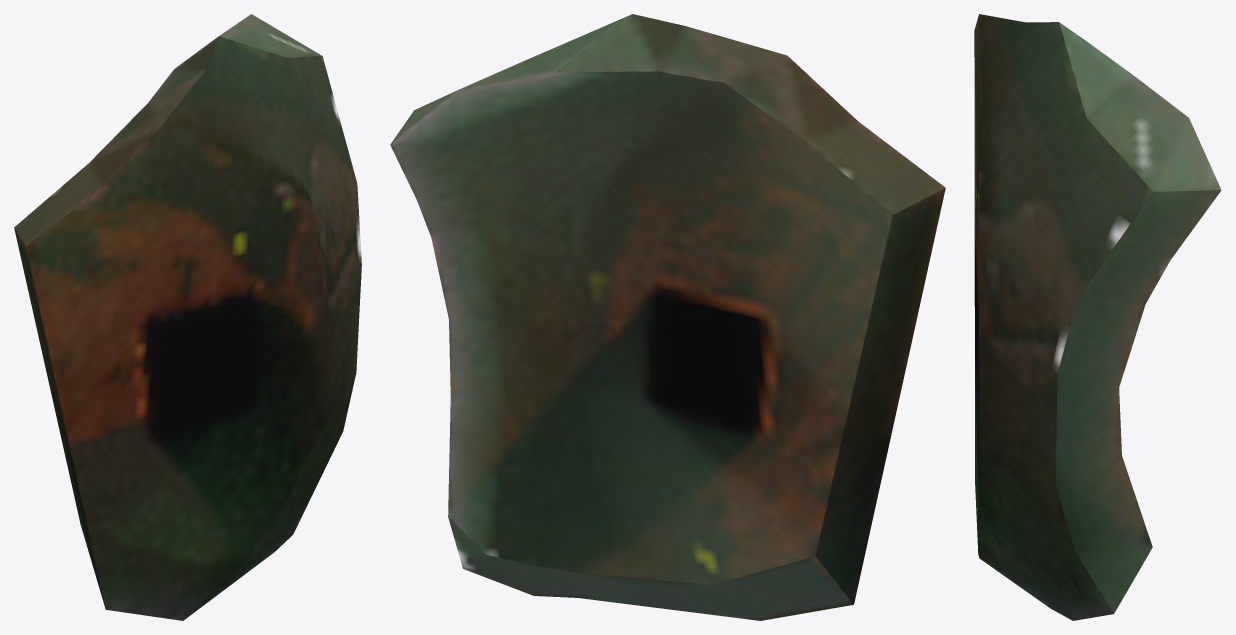
File: Ceramic005.gltf
3 renders of one model, left to right at view 1: azimuth 30°, elevation 25°; view 2: azimuth 150°, elevation 25°; view 3: azimuth 270°, elevation 25°, orthographic. The views are drawn at different scales.
Parts seen in each view (by area): view 1: Ceramic005_001, Ceramic005_003, Ceramic005_002, Ceramic005_005, Ceramic005_004, Ceramic005; view 2: Ceramic005_003, Ceramic005_002, Ceramic005_001, Ceramic005_005, Ceramic005_004, Ceramic005; view 3: Ceramic005_002, Ceramic005, Ceramic005_003, Ceramic005_004, Ceramic005_001.
Part boxes in pixels (x1=…): Ceramic005_001: x1=14, y1=112, x2=208, y2=371; Ceramic005_003: x1=92, y1=342, x2=336, y2=620; Ceramic005_002: x1=202, y1=14, x2=361, y2=352; Ceramic005_005: x1=41, y1=345, x2=266, y2=585; Ceramic005_004: x1=139, y1=31, x2=267, y2=323; Ceramic005: x1=286, y1=303, x2=359, y2=443; Ceramic005_003: x1=448, y1=325, x2=859, y2=620; Ceramic005_002: x1=390, y1=43, x2=709, y2=342; Ceramic005_001: x1=701, y1=51, x2=945, y2=355; Ceramic005_005: x1=634, y1=327, x2=913, y2=578; Ceramic005_004: x1=529, y1=14, x2=772, y2=301; Ceramic005: x1=448, y1=323, x2=611, y2=512; Ceramic005_002: x1=975, y1=82, x2=1221, y2=413; Ceramic005: x1=978, y1=342, x2=1151, y2=568; Ceramic005_003: x1=975, y1=329, x2=1152, y2=620; Ceramic005_004: x1=974, y1=15, x2=1147, y2=211; Ceramic005_001: x1=974, y1=14, x2=985, y2=303.
Size of the model in its own units: 0.0868 by 0.1176 by 0.0458.
1 material, 1 textured.
